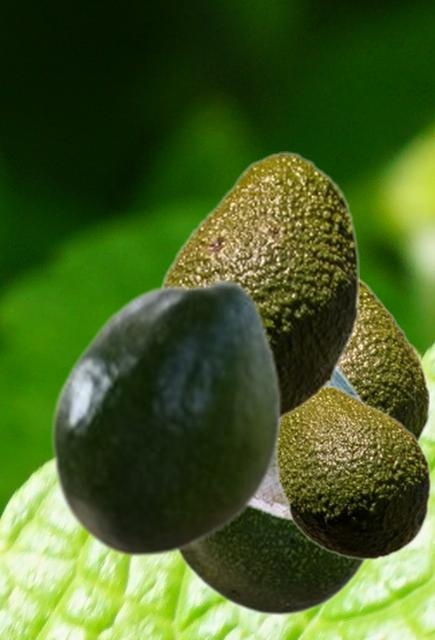avocado: (49, 277, 281, 557), (157, 151, 358, 420), (174, 367, 369, 616), (273, 384, 431, 560), (340, 276, 430, 442), (248, 466, 290, 523)
